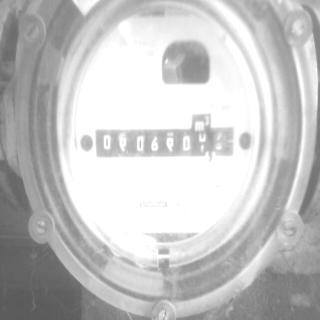1: (180, 134, 192, 154), (135, 135, 146, 154), (102, 133, 112, 151)
7: (151, 136, 161, 153)
:: (118, 135, 128, 154), (165, 136, 175, 153)
